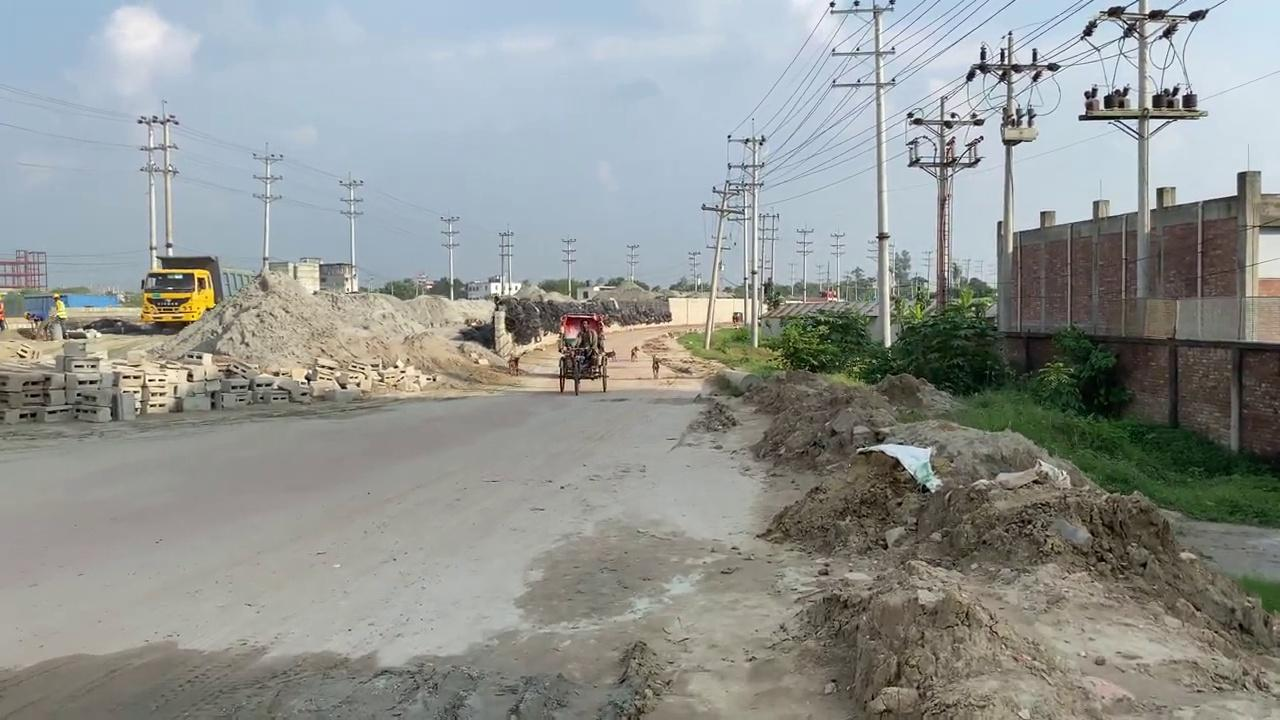Dog: (506, 355, 518, 376), (650, 354, 660, 379)
Tree: (137, 99, 222, 329), (139, 254, 222, 329), (556, 311, 608, 394)
Upstairs: (996, 169, 1278, 341)
